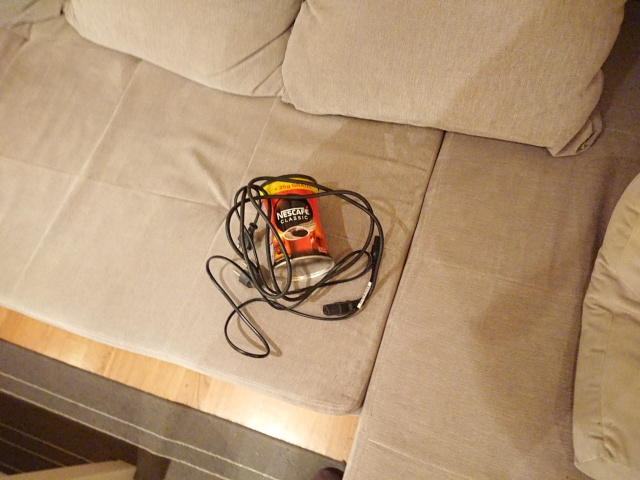Nescafe Classic 225g: (256, 172, 337, 284)
